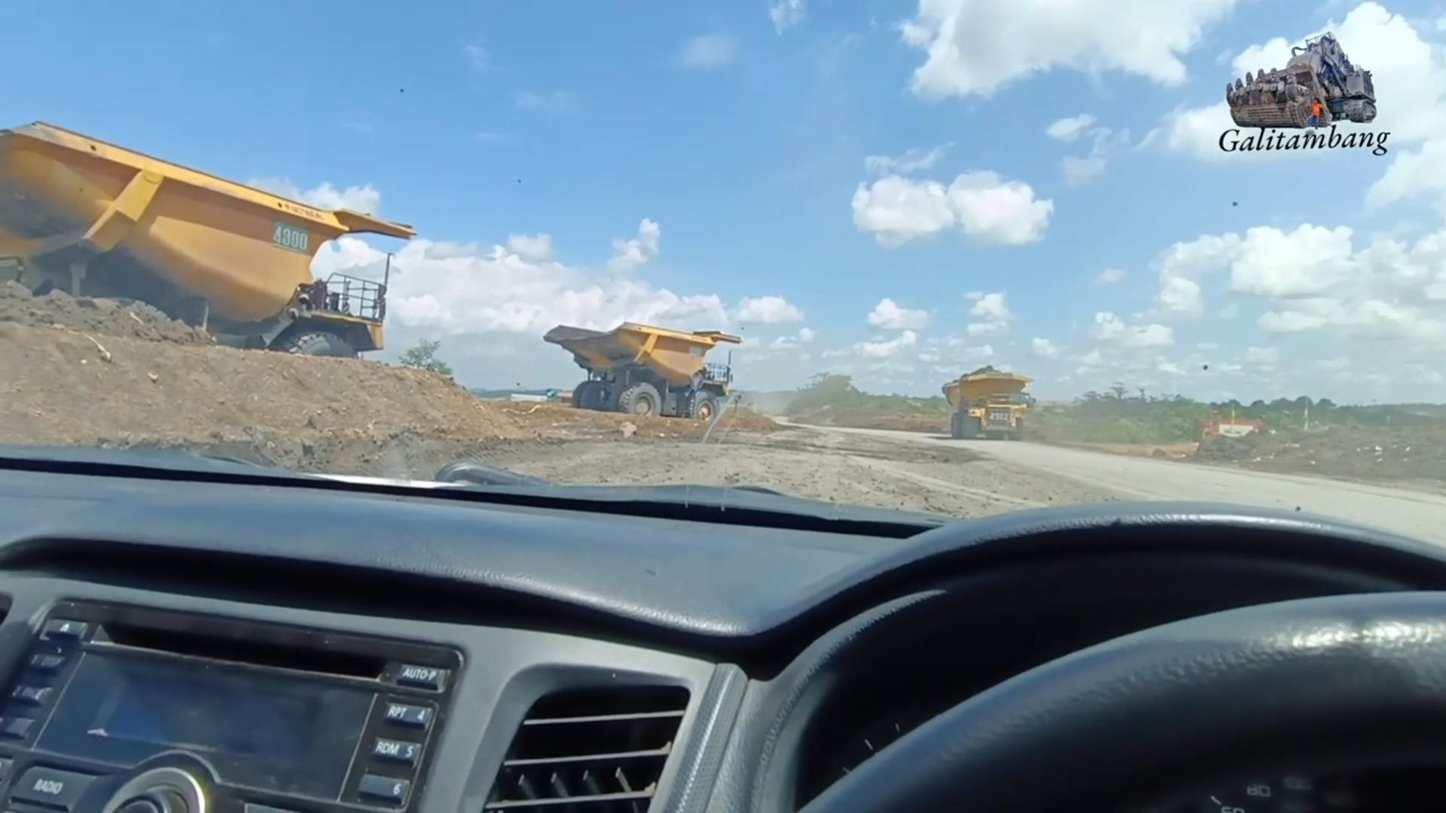HD-Truck: (0, 122, 414, 358), (545, 322, 741, 422), (941, 366, 1034, 440)
